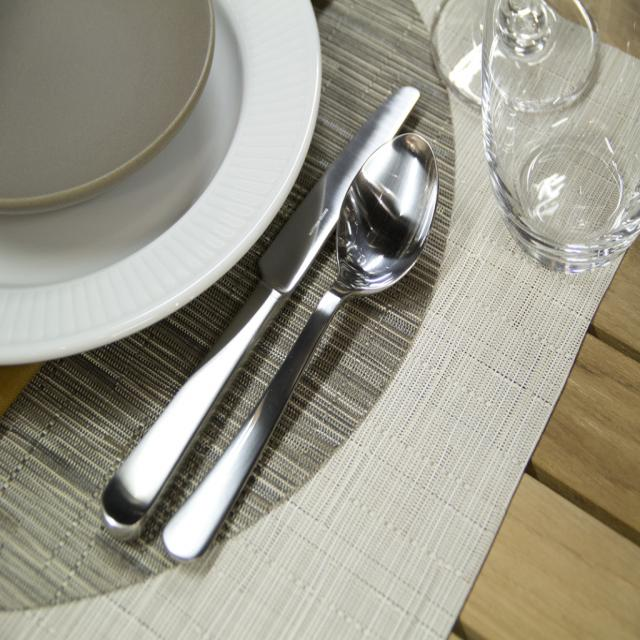non-organic waste: (0, 0, 346, 360)
